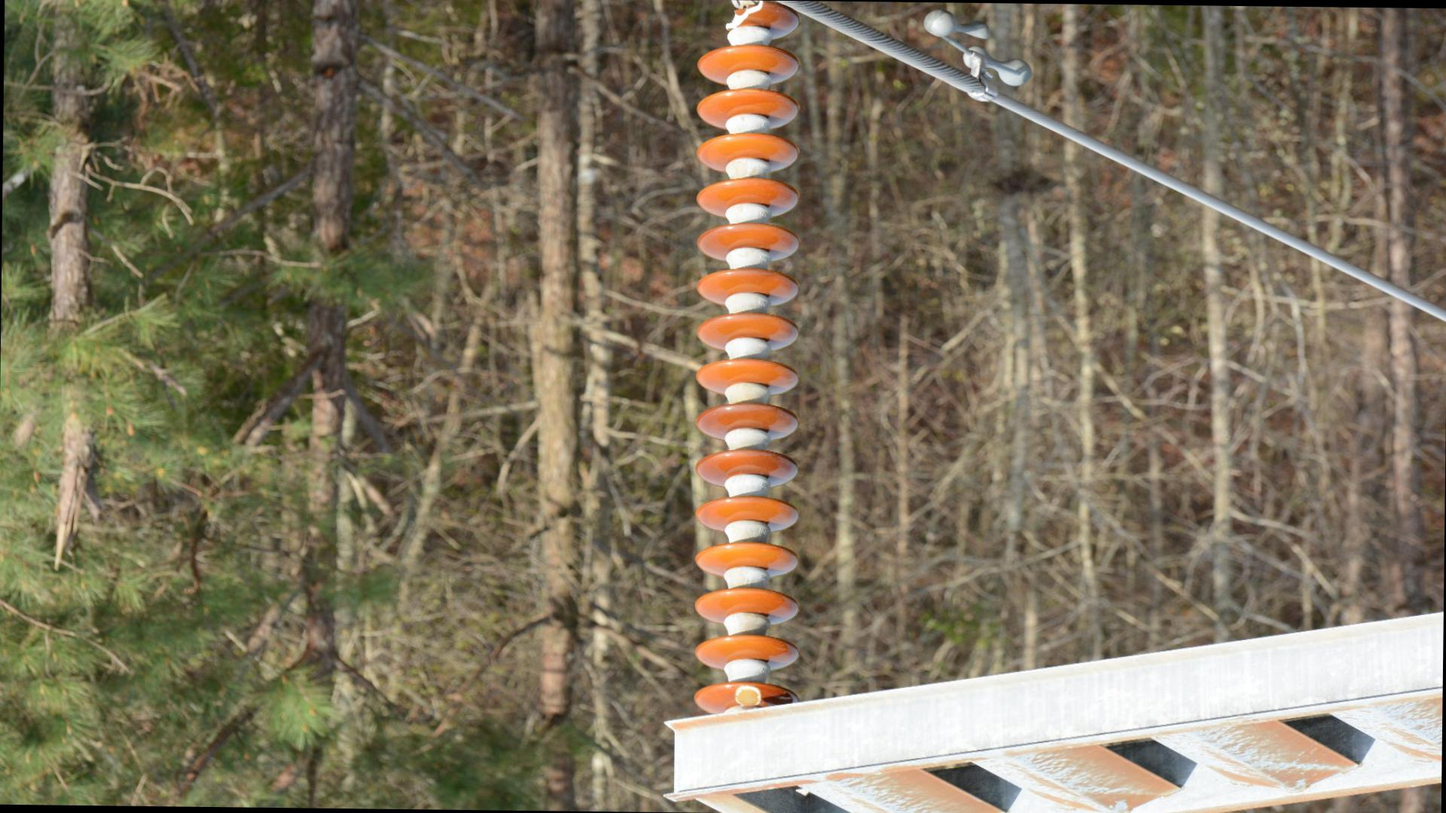damper: (918, 5, 1036, 108)
